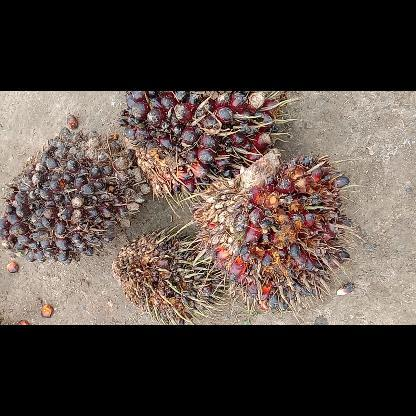Kurang masak: (0, 127, 146, 261), (118, 91, 286, 191)
TBS abnormal: (114, 228, 222, 322)
TBS masak: (196, 155, 350, 311)
